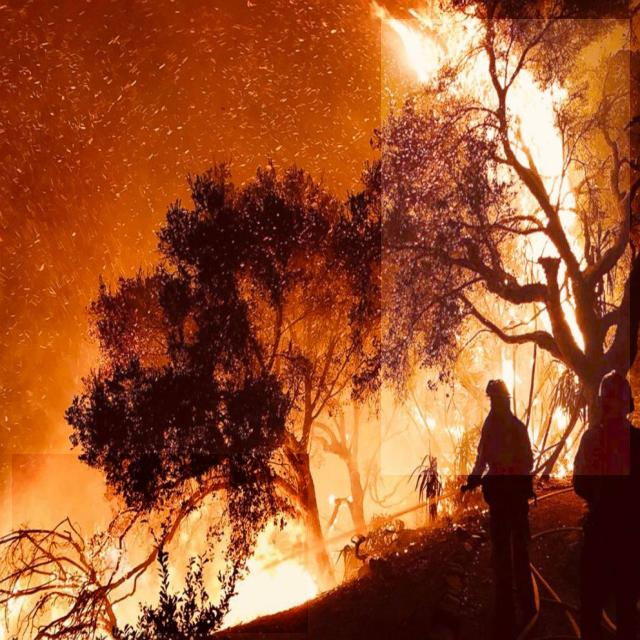Fire: (381, 19, 630, 475), (12, 454, 308, 633)
